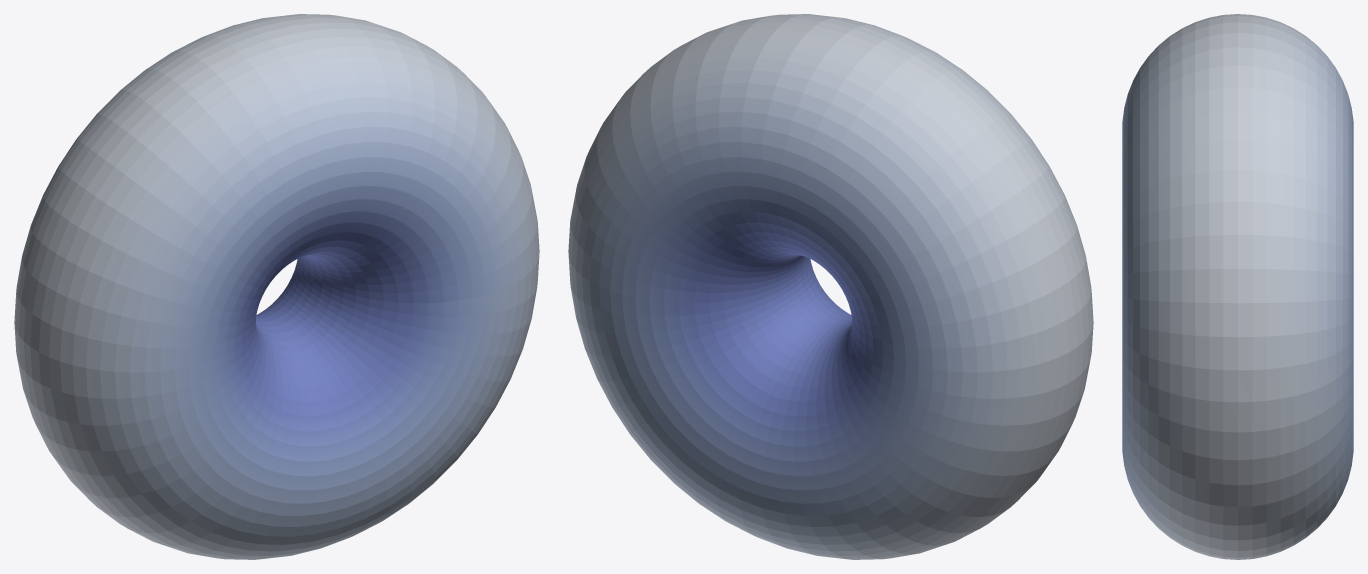
3 views of the same model, side by side, from view 1: azimuth 30°, elevation 25°; view 2: azimuth 150°, elevation 25°; view 3: azimuth 270°, elevation 25° (orthographic). The views are drawn at different scales.
Visible parts, largest first — view 1: world; view 2: world; view 3: world.
Boxes of the visible parts, box(x1,y1,x2,y2) form: world: box(14, 14, 539, 559); world: box(568, 14, 1093, 559); world: box(1122, 14, 1353, 559).
Size of the model in its own units: 18.53 by 18.5 by 7.85.
